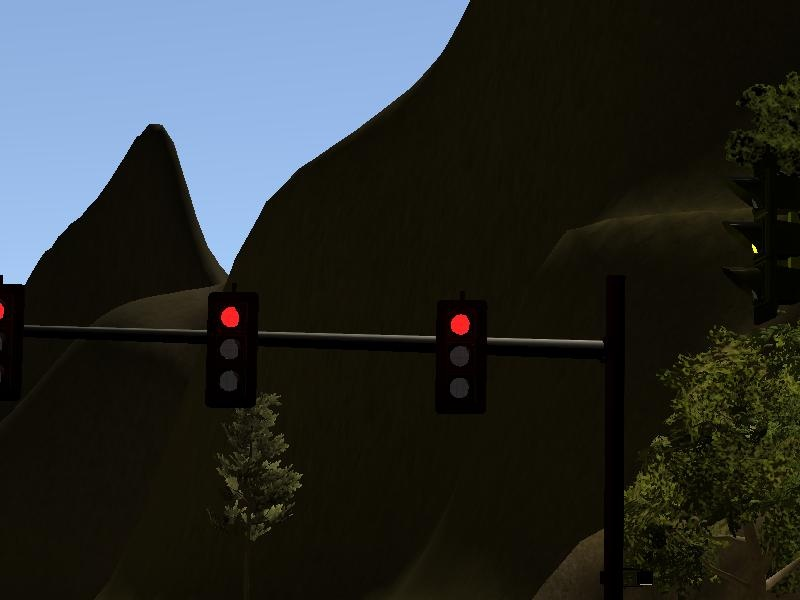RED: (205, 291, 256, 408), (434, 298, 485, 415)
